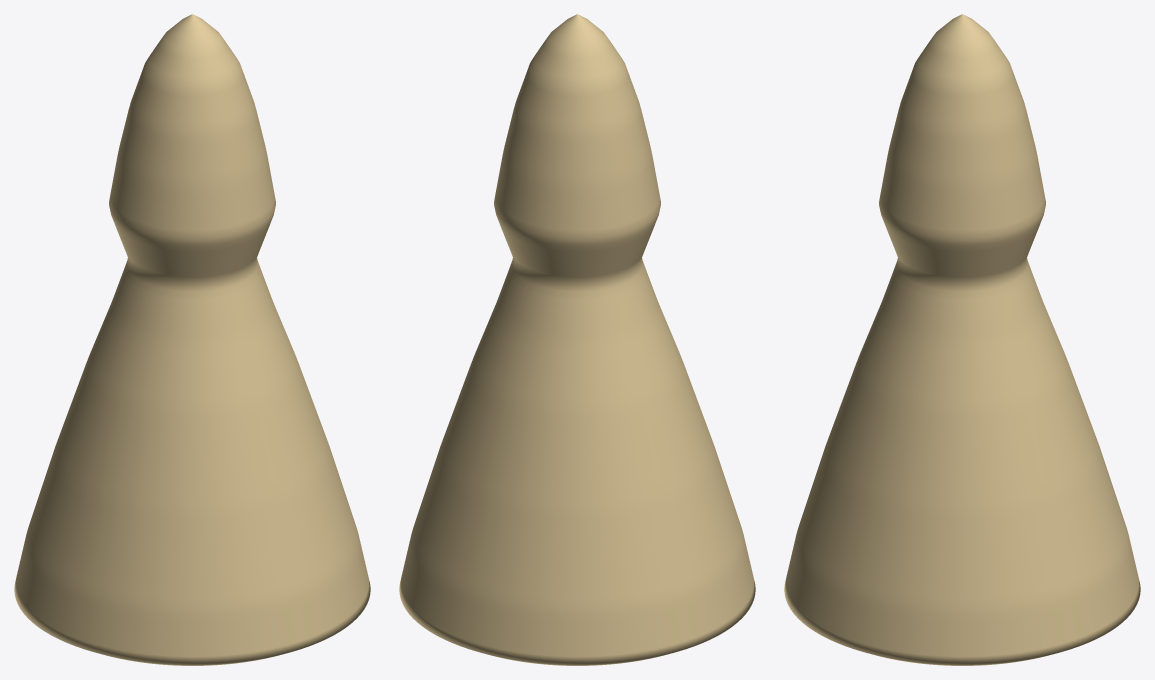
The model's file is celi-3d-demo.glb.
The picture shows the model from 3 angles, left to right: view 1: azimuth 30°, elevation 25°; view 2: azimuth 150°, elevation 25°; view 3: azimuth 270°, elevation 25°; orthographic projection.
Visible parts, largest first — view 1: CELI Haljina; view 2: CELI Haljina; view 3: CELI Haljina.
Boxes of the visible parts, x1,y1,x2,y2 form: CELI Haljina: (14, 14, 370, 665); CELI Haljina: (399, 14, 755, 665); CELI Haljina: (784, 14, 1140, 665).
Bounding box in the file's own units: 1.11 × 2.06 × 1.11.
